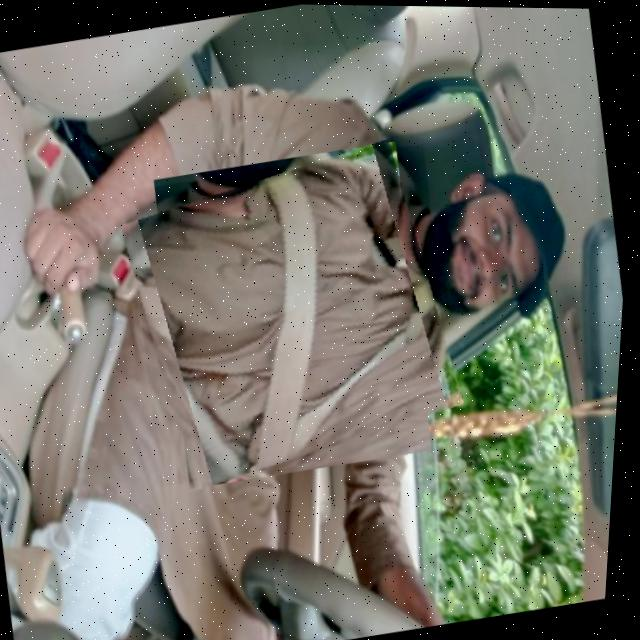seatbelt: (115, 138, 476, 488)
